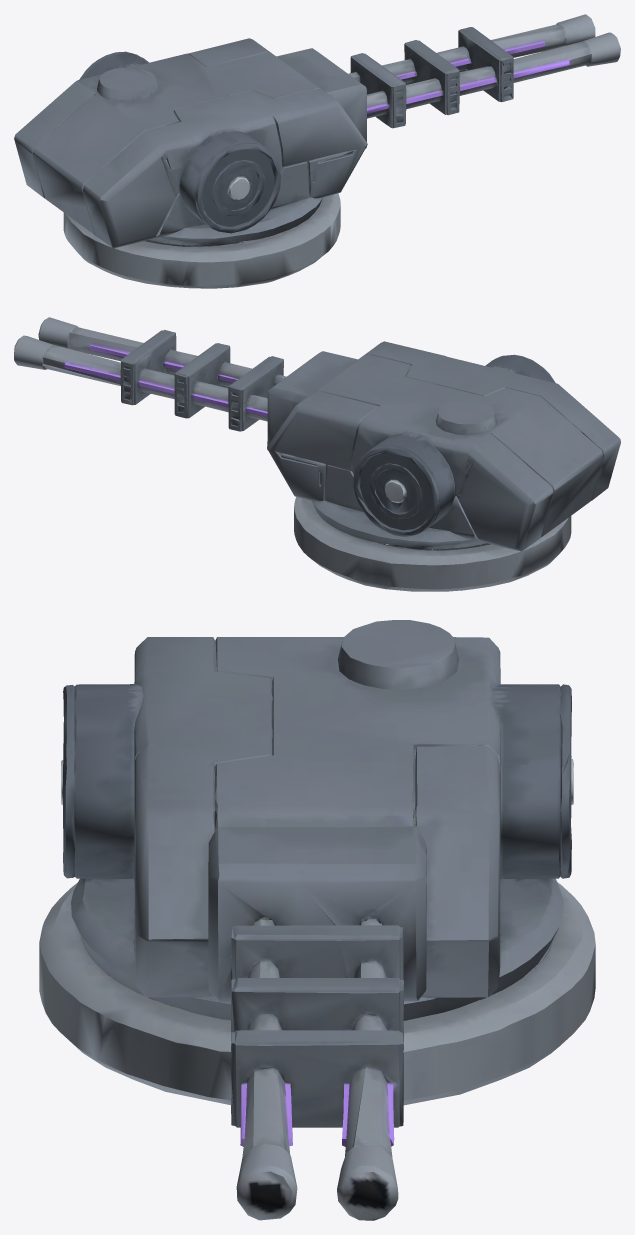
Rendered from weapon-twin-1-light.glb.
3 views of the same model, one above another, from view 1: azimuth 30°, elevation 25°; view 2: azimuth 150°, elevation 25°; view 3: azimuth 270°, elevation 25° (orthographic). The views are drawn at different scales.
Parts seen in each view (by area): view 1: weapon-twin-1-light; view 2: weapon-twin-1-light; view 3: weapon-twin-1-light.
Part boxes in pixels (x1,y1,x2,y2): weapon-twin-1-light: (14,14,620,288); weapon-twin-1-light: (14,317,620,591); weapon-twin-1-light: (39,620,595,1220).
Size of the model in its own units: 2.56 by 0.6864 by 1.13.
Materials: 1 (1 with a texture image).
